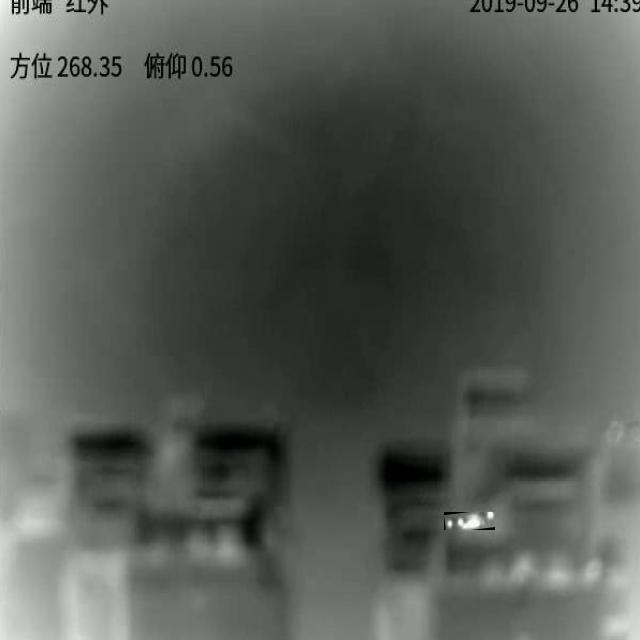drone: (445, 512, 494, 530)
